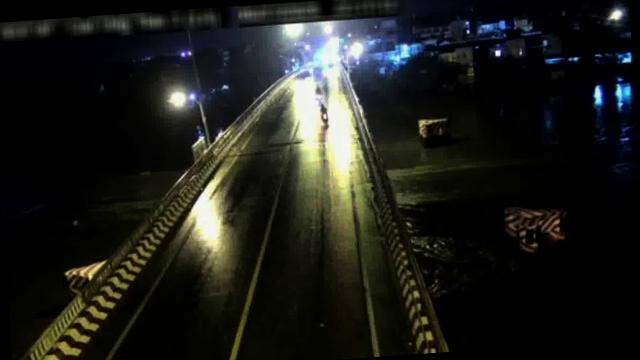Bike: (320, 101, 329, 126), (312, 84, 324, 100)
